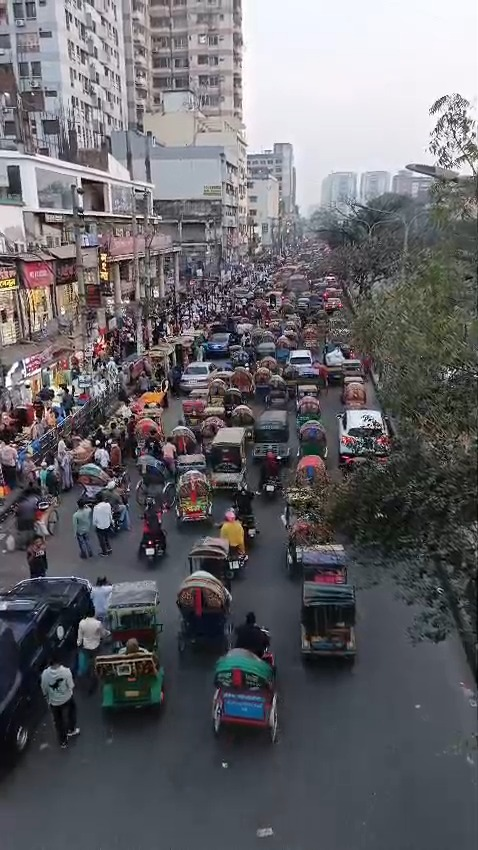auto-ricksaw: (207, 614, 284, 752), (98, 581, 168, 716), (293, 544, 362, 680), (175, 535, 238, 661), (167, 449, 215, 533), (294, 385, 330, 459)
cng: (247, 408, 295, 461)
private car: (334, 405, 396, 468), (286, 344, 316, 369)
